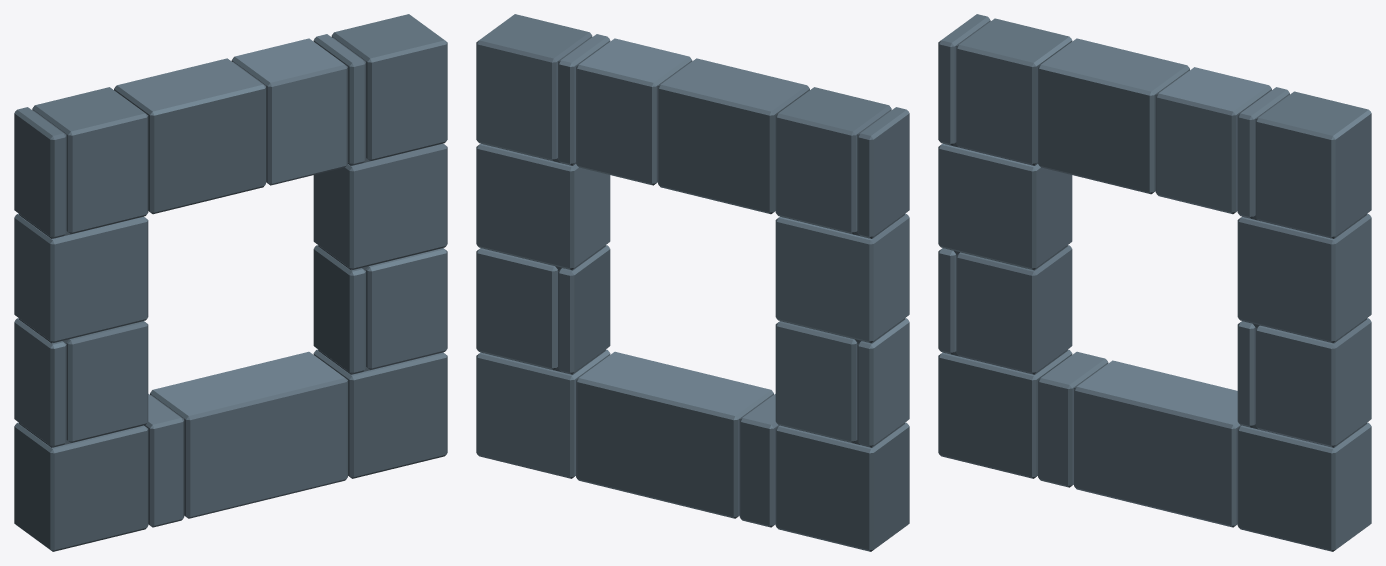
The model's file is A04_Wall_Window_2m.fbx.
3 renders of one model, left to right at view 1: azimuth 30°, elevation 25°; view 2: azimuth 150°, elevation 25°; view 3: azimuth 330°, elevation 25°, orthographic.
Visible parts, largest first — view 1: A04_Wall_Window_2m; view 2: A04_Wall_Window_2m; view 3: A04_Wall_Window_2m.
Part boxes in pixels (x1,y1,x2,y2): A04_Wall_Window_2m: (14, 14, 447, 551); A04_Wall_Window_2m: (476, 14, 909, 551); A04_Wall_Window_2m: (938, 14, 1371, 551).
Size of the model in its own units: 1.99 by 1.99 by 0.34.
Materials: 1 (1 with a texture image).
